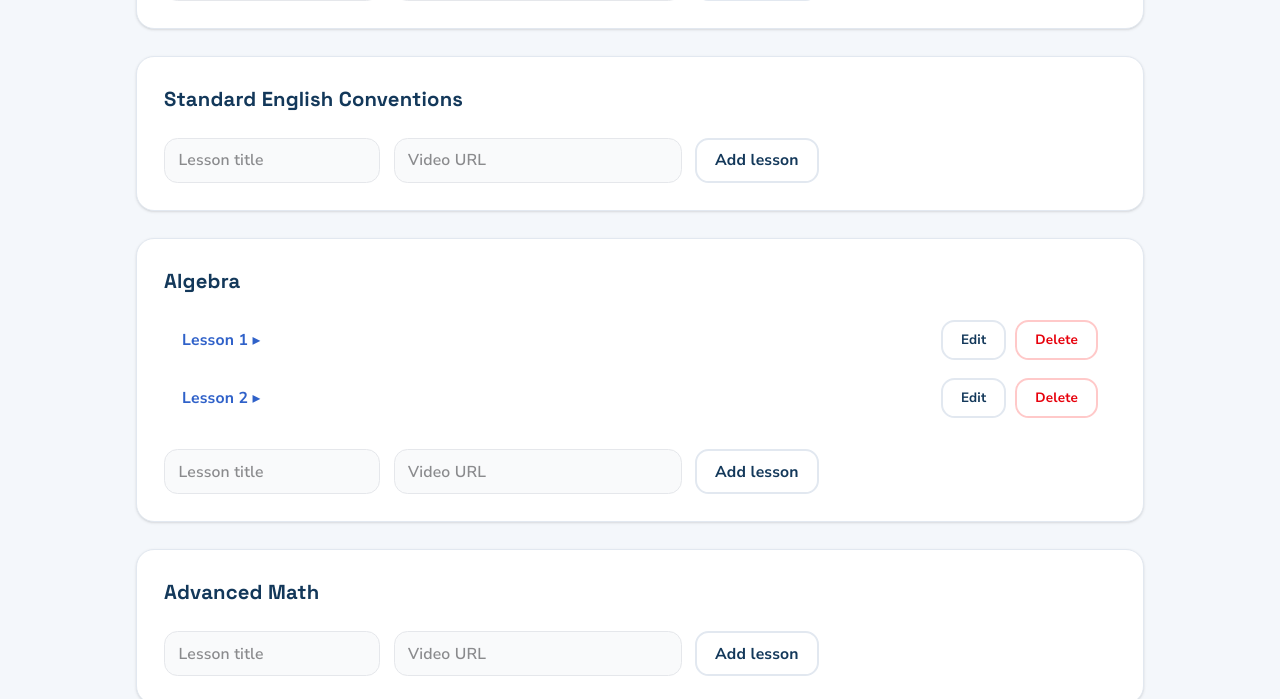
TeacherCourseView › shows deleting state while deleting
(page scrolled)
Check: the text "Lesson 1 ▸" is shown, box [182,329,261,351]
Click the 1st button "Delete" at (1057, 340), box [1015,320,1098,360]
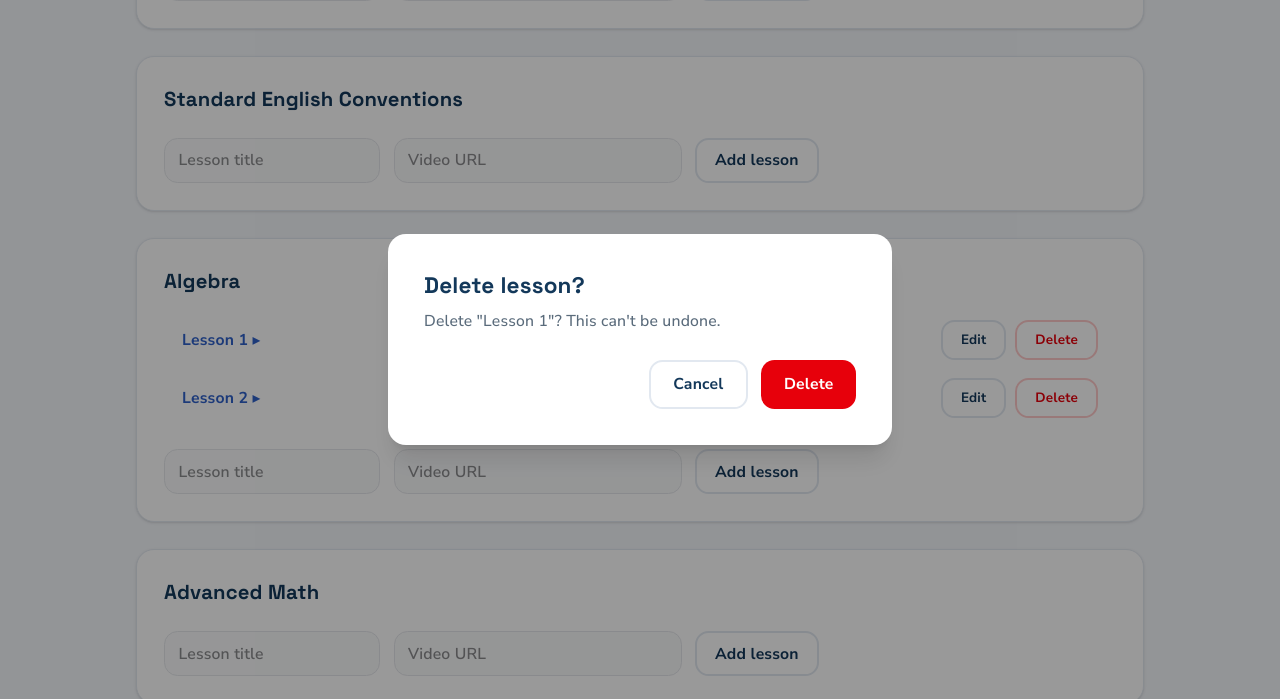
Click the button "Delete" at (809, 384), box [761,360,856,408]
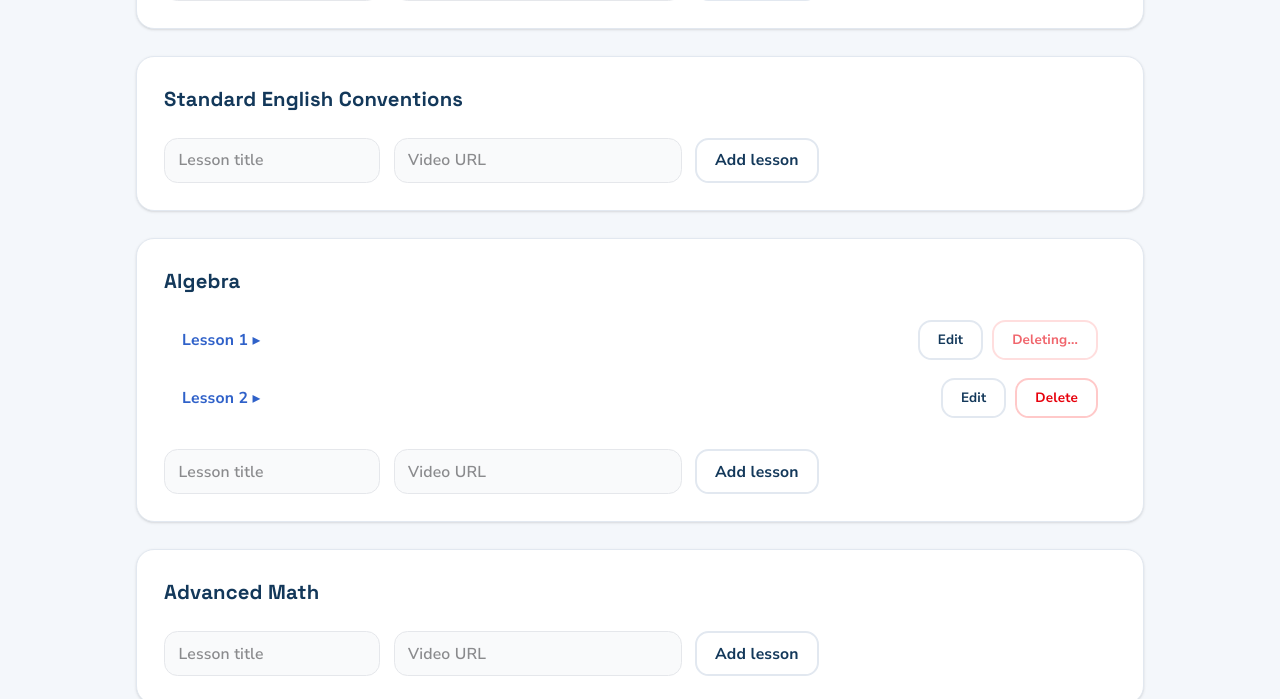
Check: the button "Delete" is enabled, box [1015,378,1098,418]
Check: the button "Deleting..." is disabled, box [992,320,1098,360]
